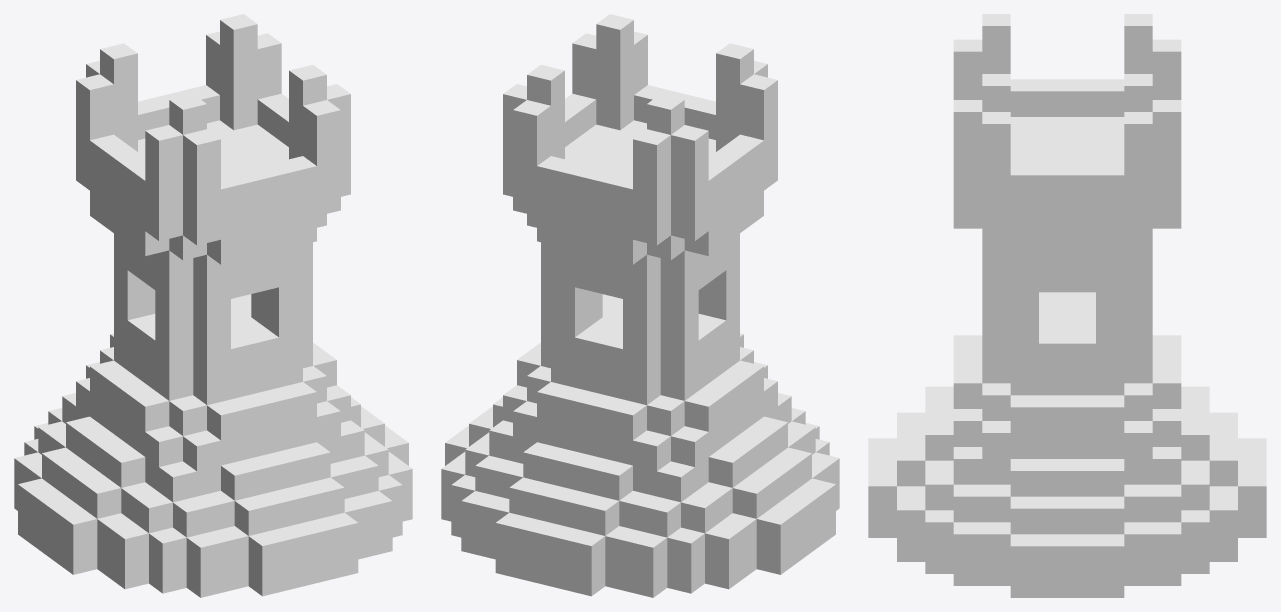
The model's file is player.obj.
3 views of the same model, side by side, from view 1: azimuth 30°, elevation 25°; view 2: azimuth 150°, elevation 25°; view 3: azimuth 270°, elevation 25° (orthographic). The views are drawn at different scales.
Size of the model in its own units: 1.4 by 1.8 by 1.4.
Materials: 1 (1 with a texture image).
